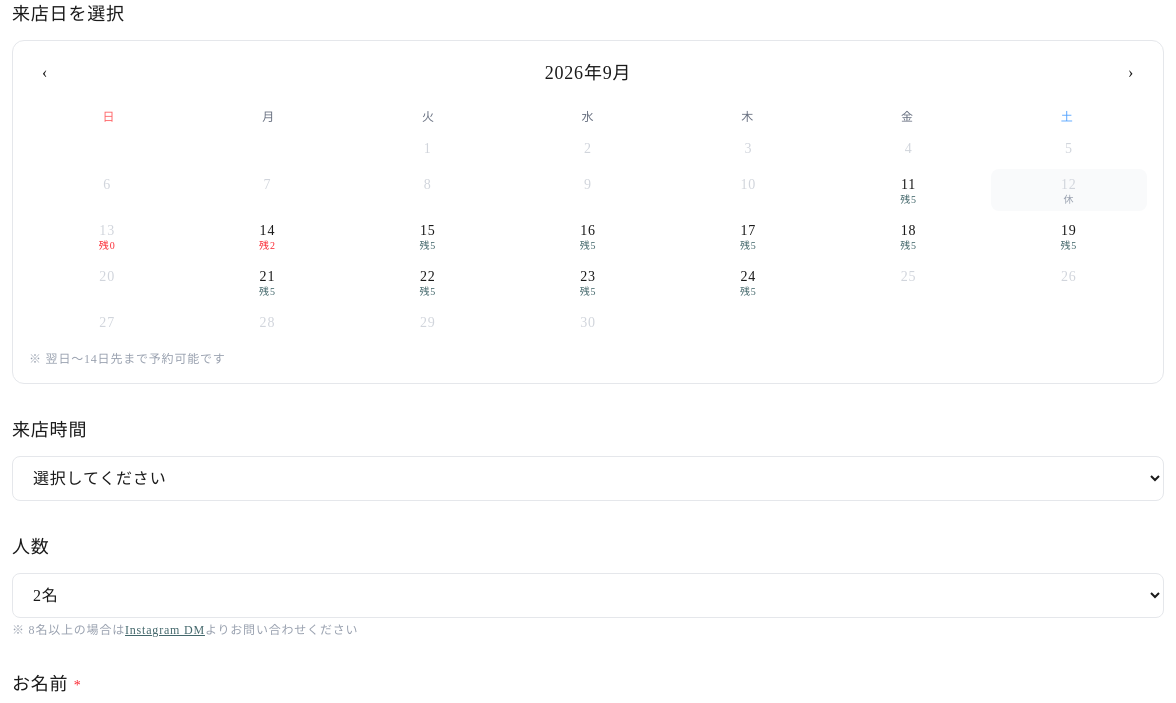
Scenario: ReservationForm › 日付を選ぶと選択中の表示と残り食数が出て、来店時間を選べるようになる
The width and height of the screenshot is (1176, 703).
Expected: the text "2026年9月" is shown, [545,59,631,87]
Expected: the dropdown showing "選択してください" below "来店時間" is disabled, [12,456,1164,501]
Click the button "15 残5" at (428, 236), box [350,215,506,257]
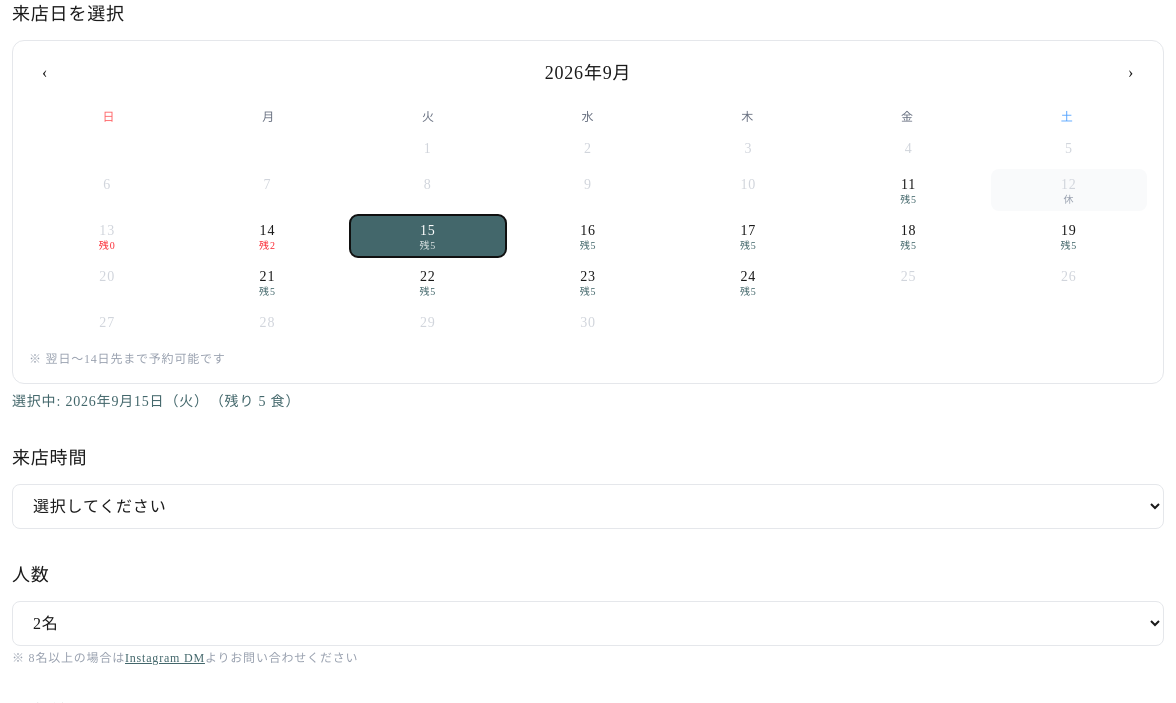
Expected: the text "選択中: 2026年9月15日（火）（残り 5 食）" is shown, [12,394,300,409]
Expected: the dropdown showing "選択してください" below "来店時間" is enabled, [12,484,1164,529]
